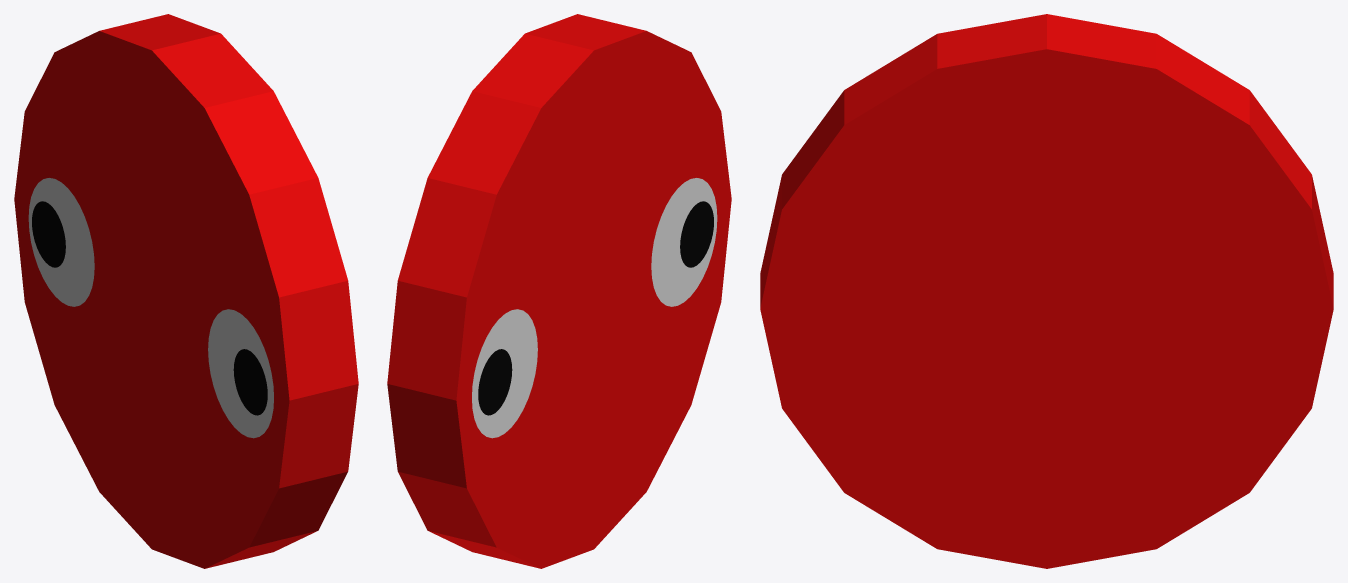
The model's file is connect4coin.glb.
3 views of the same model, side by side, from view 1: azimuth 30°, elevation 25°; view 2: azimuth 150°, elevation 25°; view 3: azimuth 270°, elevation 25° (orthographic). The views are drawn at different scales.
Visible parts, largest first — view 1: Cube, Circle, Circle.001; view 2: Cube, Circle, Circle.001; view 3: Cube.
Part boxes in pixels (x1,y1,x2,y2): Cube: (14,14,358,568); Circle: (28,178,273,438); Circle.001: (32,201,267,415); Cube: (387,14,731,568); Circle: (472,178,717,438); Circle.001: (478,201,713,415); Cube: (760,14,1333,568).
Size of the model in its own units: 0.2316 by 1.55 by 1.55.
